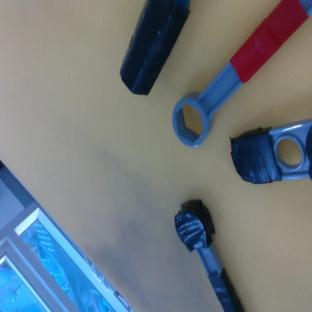part_3_bad: (168, 195, 244, 312)
